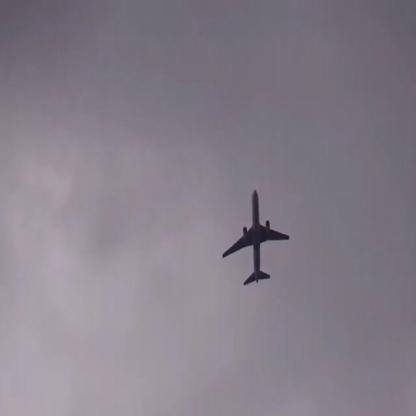CIV_Plane: (220, 190, 290, 284)
